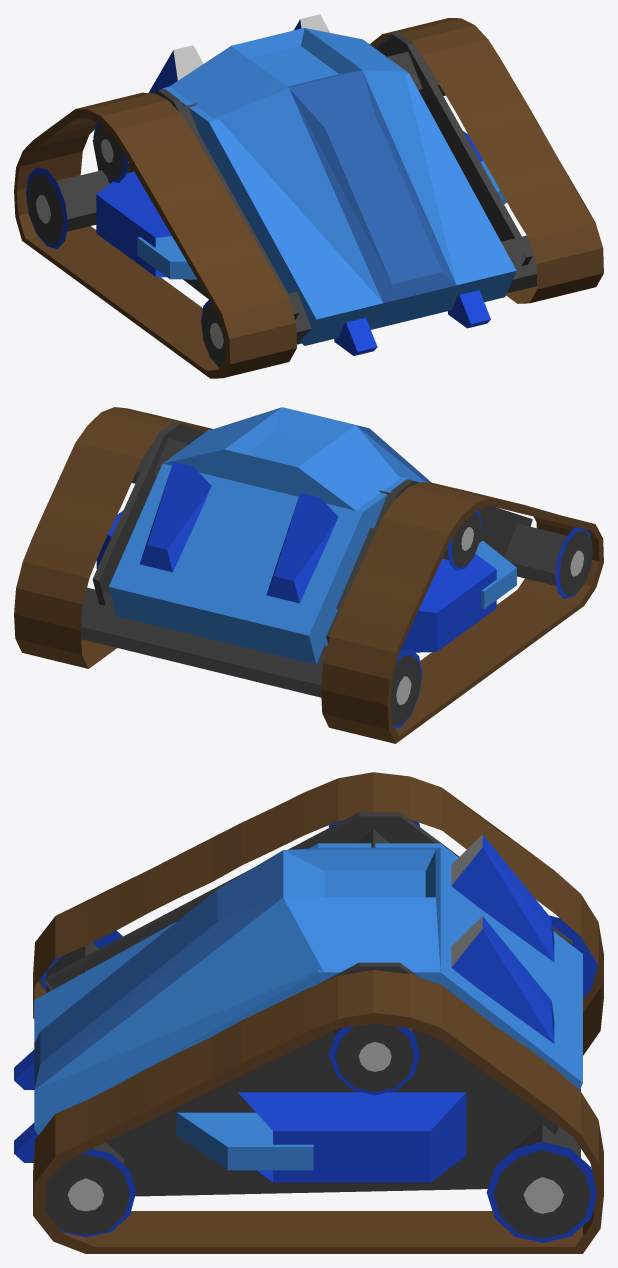
File: Leg.FBX
3 views of the same model, one above another, from view 1: azimuth 30°, elevation 25°; view 2: azimuth 150°, elevation 25°; view 3: azimuth 270°, elevation 25° (orthographic). The views are drawn at different scales.
Visible parts, largest first — view 1: VIFS006, VIFS001, VIFS005, VIFS004, VIFS002, VIFS003; view 2: VIFS006, VIFS001, VIFS004, VIFS002, VIFS003, VIFS005; view 3: VIFS006, VIFS001, VIFS004, VIFS002, VIFS005, VIFS003.
Part boxes in pixels (x1,y1,x2,y2): VIFS006: (14,18,603,378); VIFS001: (137,28,516,345); VIFS005: (289,70,456,302); VIFS004: (27,32,536,366); VIFS002: (26,19,490,367); VIFS003: (36,14,330,348); VIFS006: (14,407,603,743); VIFS001: (109,407,516,664); VIFS004: (80,422,592,725); VIFS002: (96,461,592,728); VIFS003: (396,527,583,705); VIFS005: (326,417,431,482); VIFS006: (33,772,603,1253); VIFS001: (34,843,582,1170); VIFS004: (44,812,590,1238); VIFS002: (14,819,598,1242); VIFS005: (34,850,283,1089); VIFS003: (67,834,563,1213).
Size of the model in its own units: 0.84 by 0.426 by 0.87.
